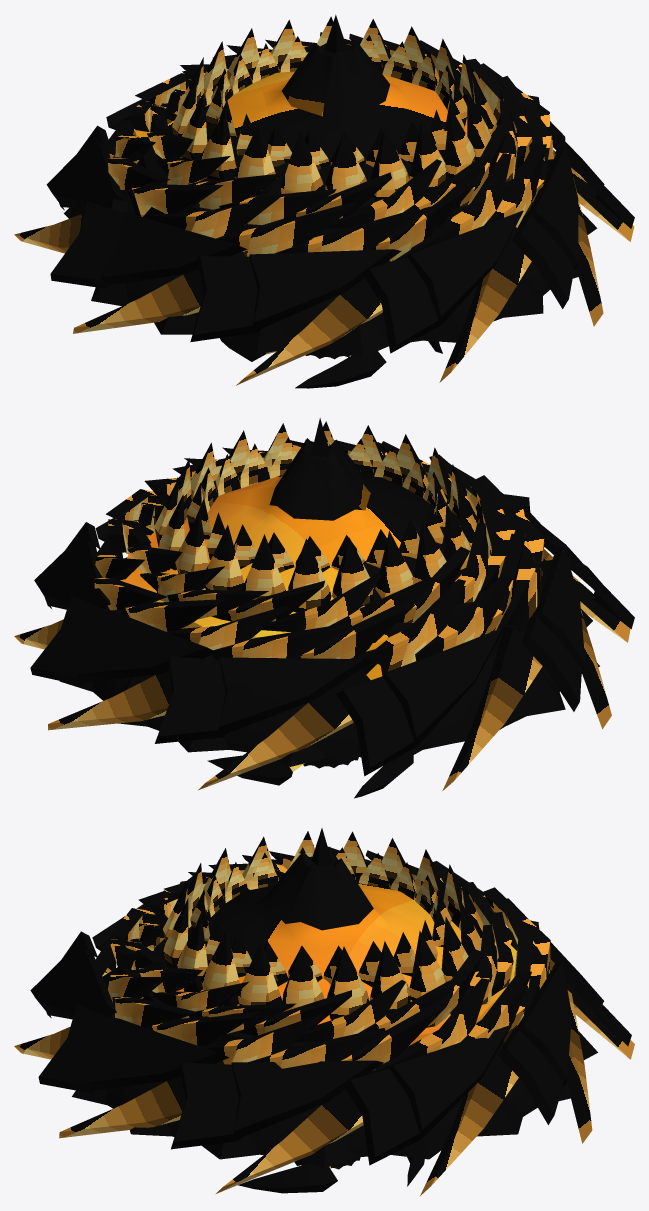
3 renders of one model, top to bottom at view 1: azimuth 30°, elevation 25°; view 2: azimuth 150°, elevation 25°; view 3: azimuth 270°, elevation 25°, orthographic.
Parts seen in each view (by area): view 1: 105510_2, 105510, 105510_1, 105510_3; view 2: 105510_2, 105510, 105510_1, 105510_3; view 3: 105510_2, 105510, 105510_1, 105510_3.
Part boxes in pixels (bbox=[...]): 105510_2: bbox=[14, 95, 634, 385]; 105510: bbox=[64, 14, 597, 359]; 105510_1: bbox=[108, 32, 553, 261]; 105510_3: bbox=[220, 338, 442, 388]; 105510_2: bbox=[14, 492, 634, 790]; 105510: bbox=[59, 418, 599, 768]; 105510_1: bbox=[94, 436, 544, 675]; 105510_3: bbox=[207, 755, 413, 798]; 105510_2: bbox=[14, 876, 634, 1195]; 105510: bbox=[72, 828, 597, 1169]; 105510_1: bbox=[108, 846, 550, 1072]; 105510_3: bbox=[238, 1157, 424, 1193].
Bounding box in the file's own units: 70.06 × 41.55 × 70.72.
